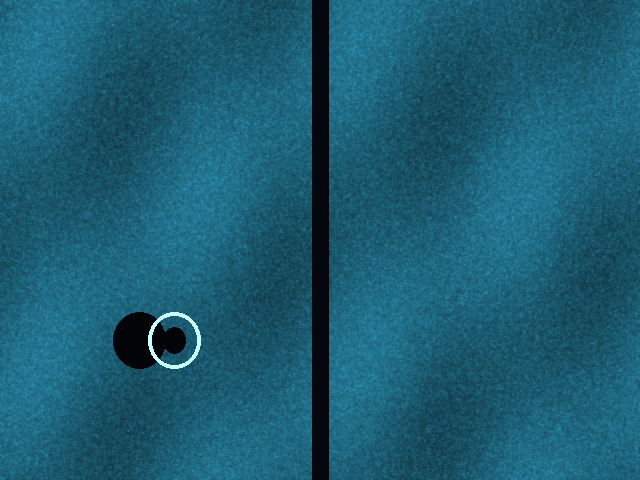Tire: (148, 312, 200, 368)
